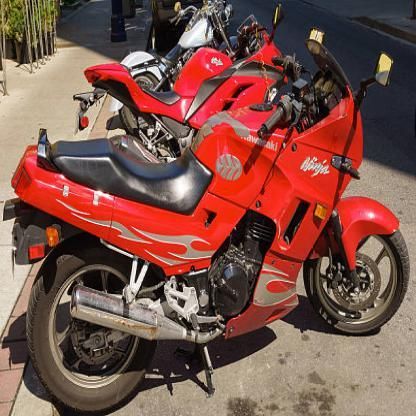Motorcycle: (0, 67, 414, 416)
